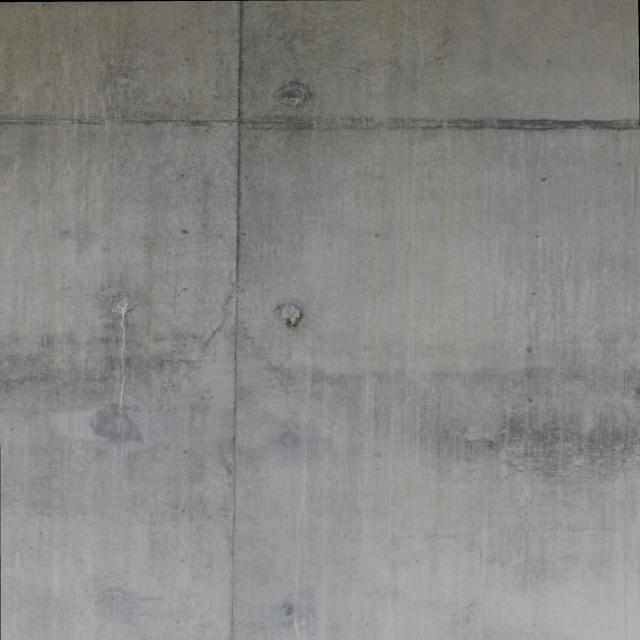concrete spalling: (274, 302, 303, 326), (283, 88, 304, 101)
